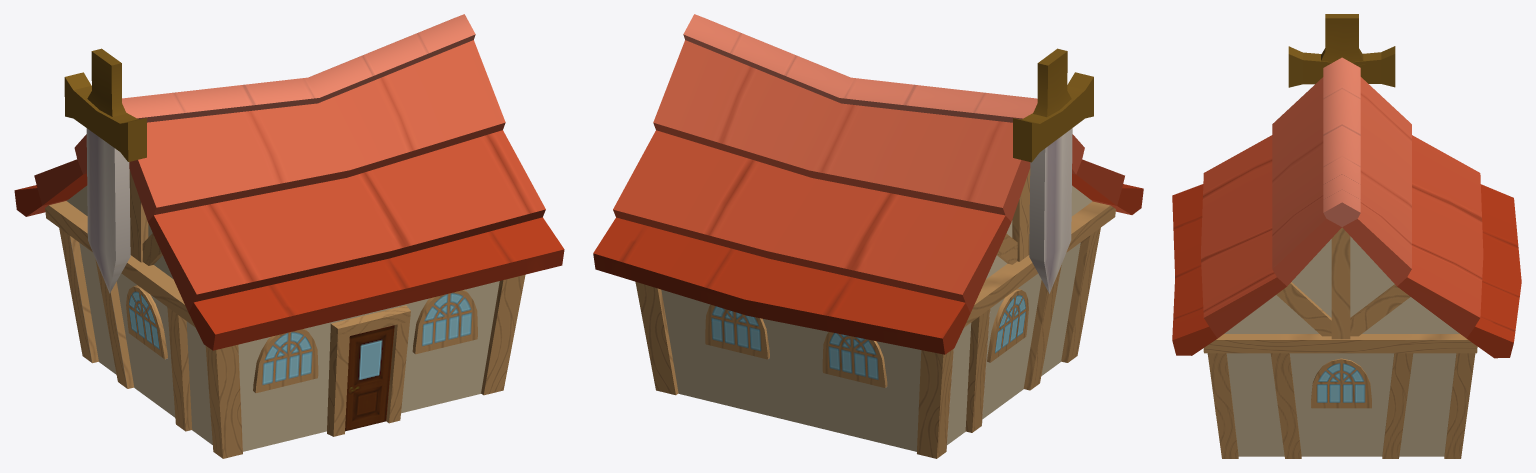
Rendered from building_weapon_lv1.FBX.
The picture shows the model from 3 angles, left to right: view 1: azimuth 30°, elevation 25°; view 2: azimuth 150°, elevation 25°; view 3: azimuth 270°, elevation 25°; orthographic projection. The views are drawn at different scales.
Visible parts, largest first — view 1: building_weapon_roof_lv1, building_weapon_lv1, building_weapon_main_lv1; view 2: building_weapon_roof_lv1, building_weapon_lv1, building_weapon_main_lv1; view 3: building_weapon_roof_lv1, building_weapon_lv1, building_weapon_main_lv1.
Boxes of the visible parts, left/top/right/bottom form: building_weapon_roof_lv1: left=14, top=14, right=564, bottom=350; building_weapon_lv1: left=45, top=48, right=525, bottom=458; building_weapon_main_lv1: left=66, top=180, right=499, bottom=451; building_weapon_roof_lv1: left=593, top=14, right=1143, bottom=354; building_weapon_lv1: left=635, top=48, right=1115, bottom=458; building_weapon_main_lv1: left=661, top=185, right=1092, bottom=451; building_weapon_roof_lv1: left=1172, top=57, right=1521, bottom=358; building_weapon_lv1: left=1203, top=14, right=1477, bottom=458; building_weapon_main_lv1: left=1224, top=236, right=1459, bottom=456.
Bounding box in the file's own units: 336 × 317 × 324.
